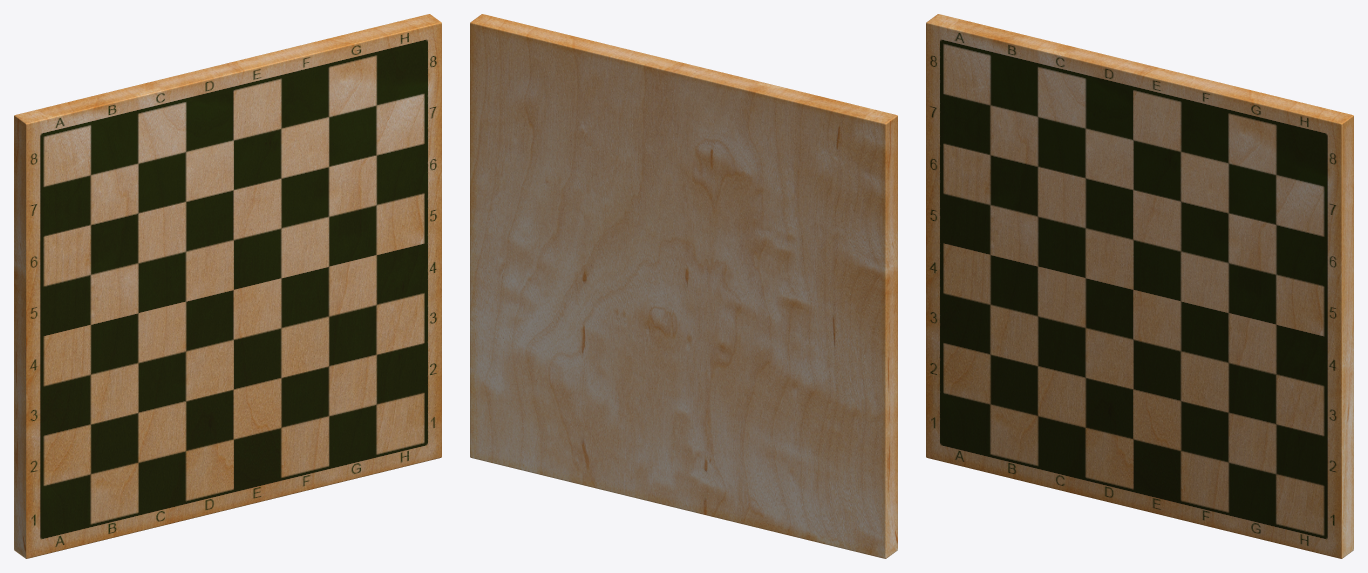
The model's file is Scacchiera.obj.
3 views of the same model, side by side, from view 1: azimuth 30°, elevation 25°; view 2: azimuth 150°, elevation 25°; view 3: azimuth 330°, elevation 25° (orthographic).
Parts seen in each view (by area): view 1: 10586_Chess_Board_v1_max2010; view 2: 10586_Chess_Board_v1_max2010; view 3: 10586_Chess_Board_v1_max2010.
Part boxes in pixels (x1,y1,x2,y2): 10586_Chess_Board_v1_max2010: [14, 14, 441, 558]; 10586_Chess_Board_v1_max2010: [470, 14, 897, 558]; 10586_Chess_Board_v1_max2010: [926, 14, 1353, 558].
Size of the model in its own units: 39 by 39 by 2.
1 material, 1 textured.
